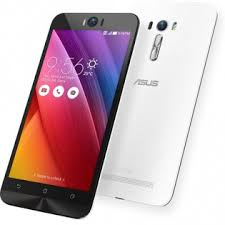asus: (1, 6, 144, 219)
